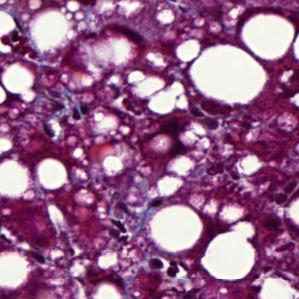inflammation: (40, 97, 93, 140), (143, 254, 192, 280), (106, 217, 135, 246)
